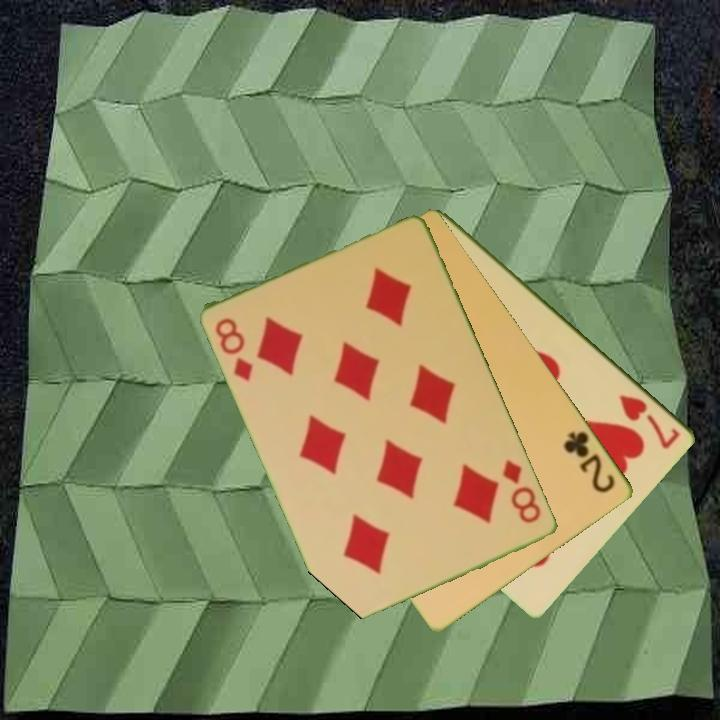2c: (560, 427, 619, 496)
7h: (616, 390, 684, 452)
8d: (499, 456, 545, 527), (212, 314, 257, 385)
